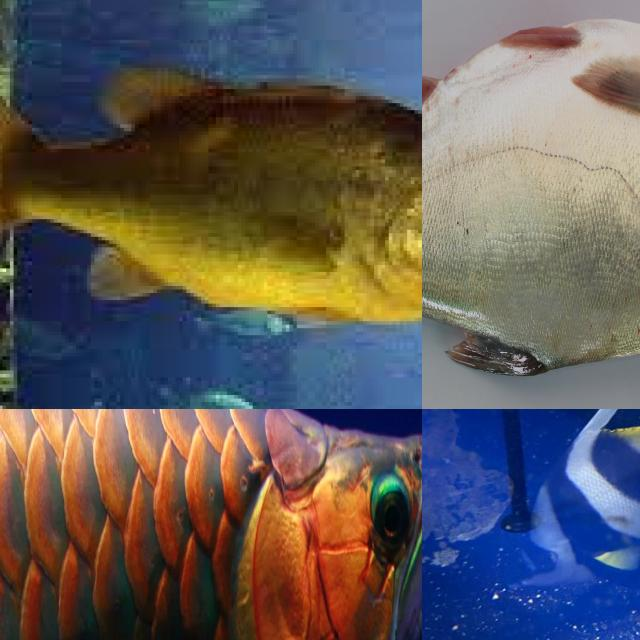fish: (0, 0, 422, 409), (5, 409, 422, 640), (422, 8, 640, 349), (483, 409, 640, 596)
